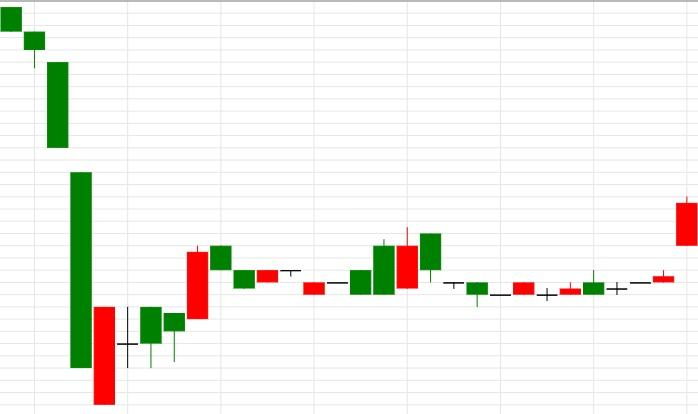morning_star_rise: (419, 233, 535, 308)
